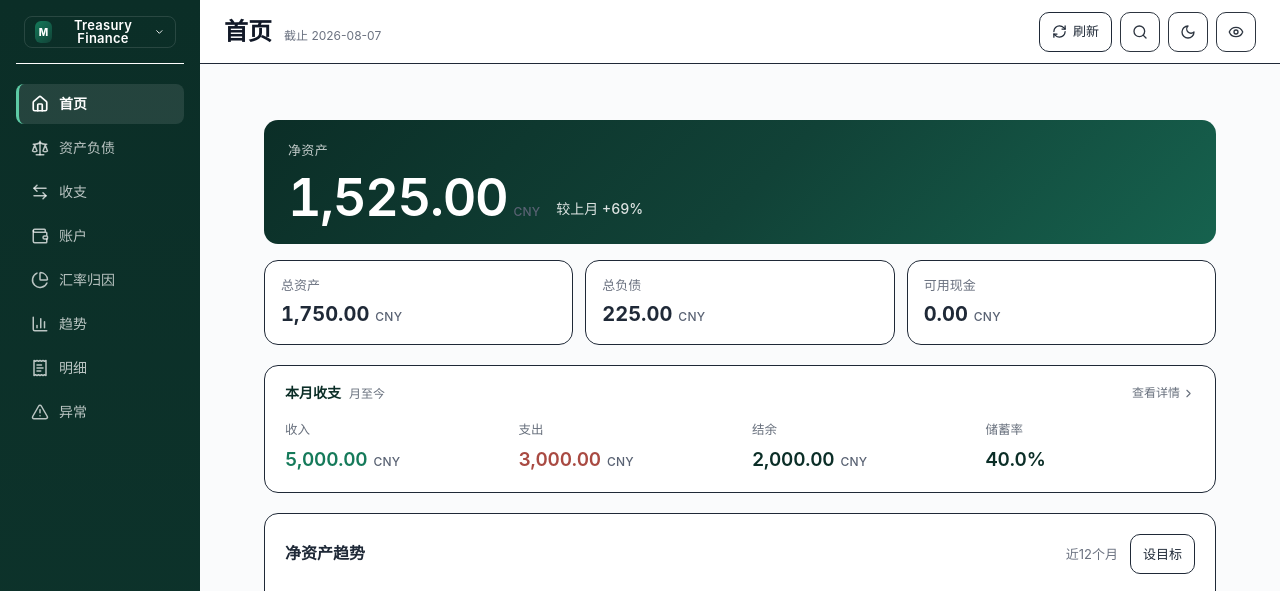
it: App 路由与导航 › 遮蔽后首页与资产负债页不在文本或无障碍名称中泄露 fixture 金额
expect the text "总资产" is shown: met, box top-left (281, 277), bottom-right (320, 293)
Click the button named "遮蔽全部金额" at (1236, 32), box top-left (1216, 12), bottom-right (1256, 52)
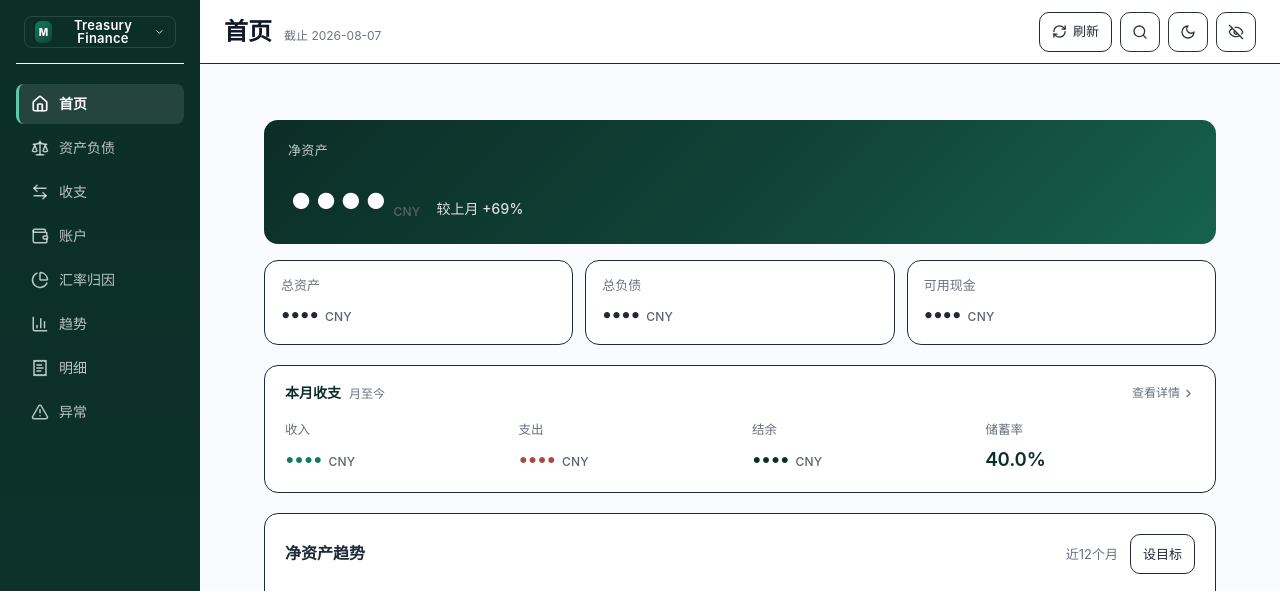
expect the text "1,525" is gone: met
expect the text "1,750" is gone: met
expect the text "5,000" is gone: met
Click the link "资产负债" at (73, 148), box top-left (31, 139), bottom-right (115, 157)
(page scrolled)
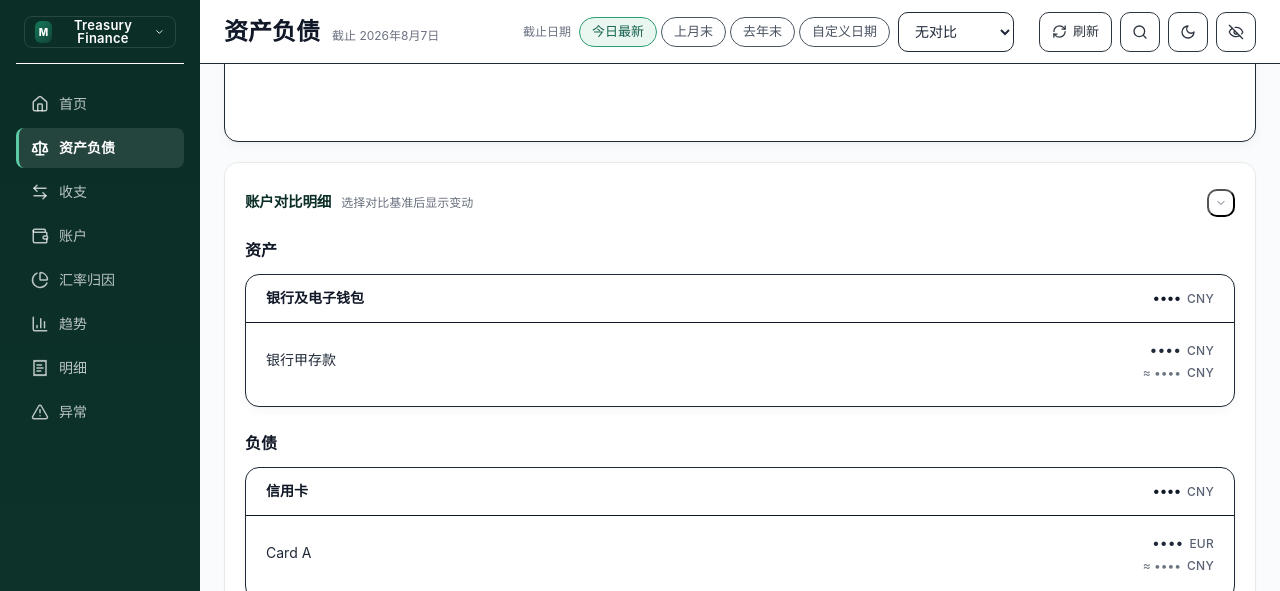
expect the text "银行甲存款" is shown: met, box top-left (266, 350), bottom-right (336, 372)
